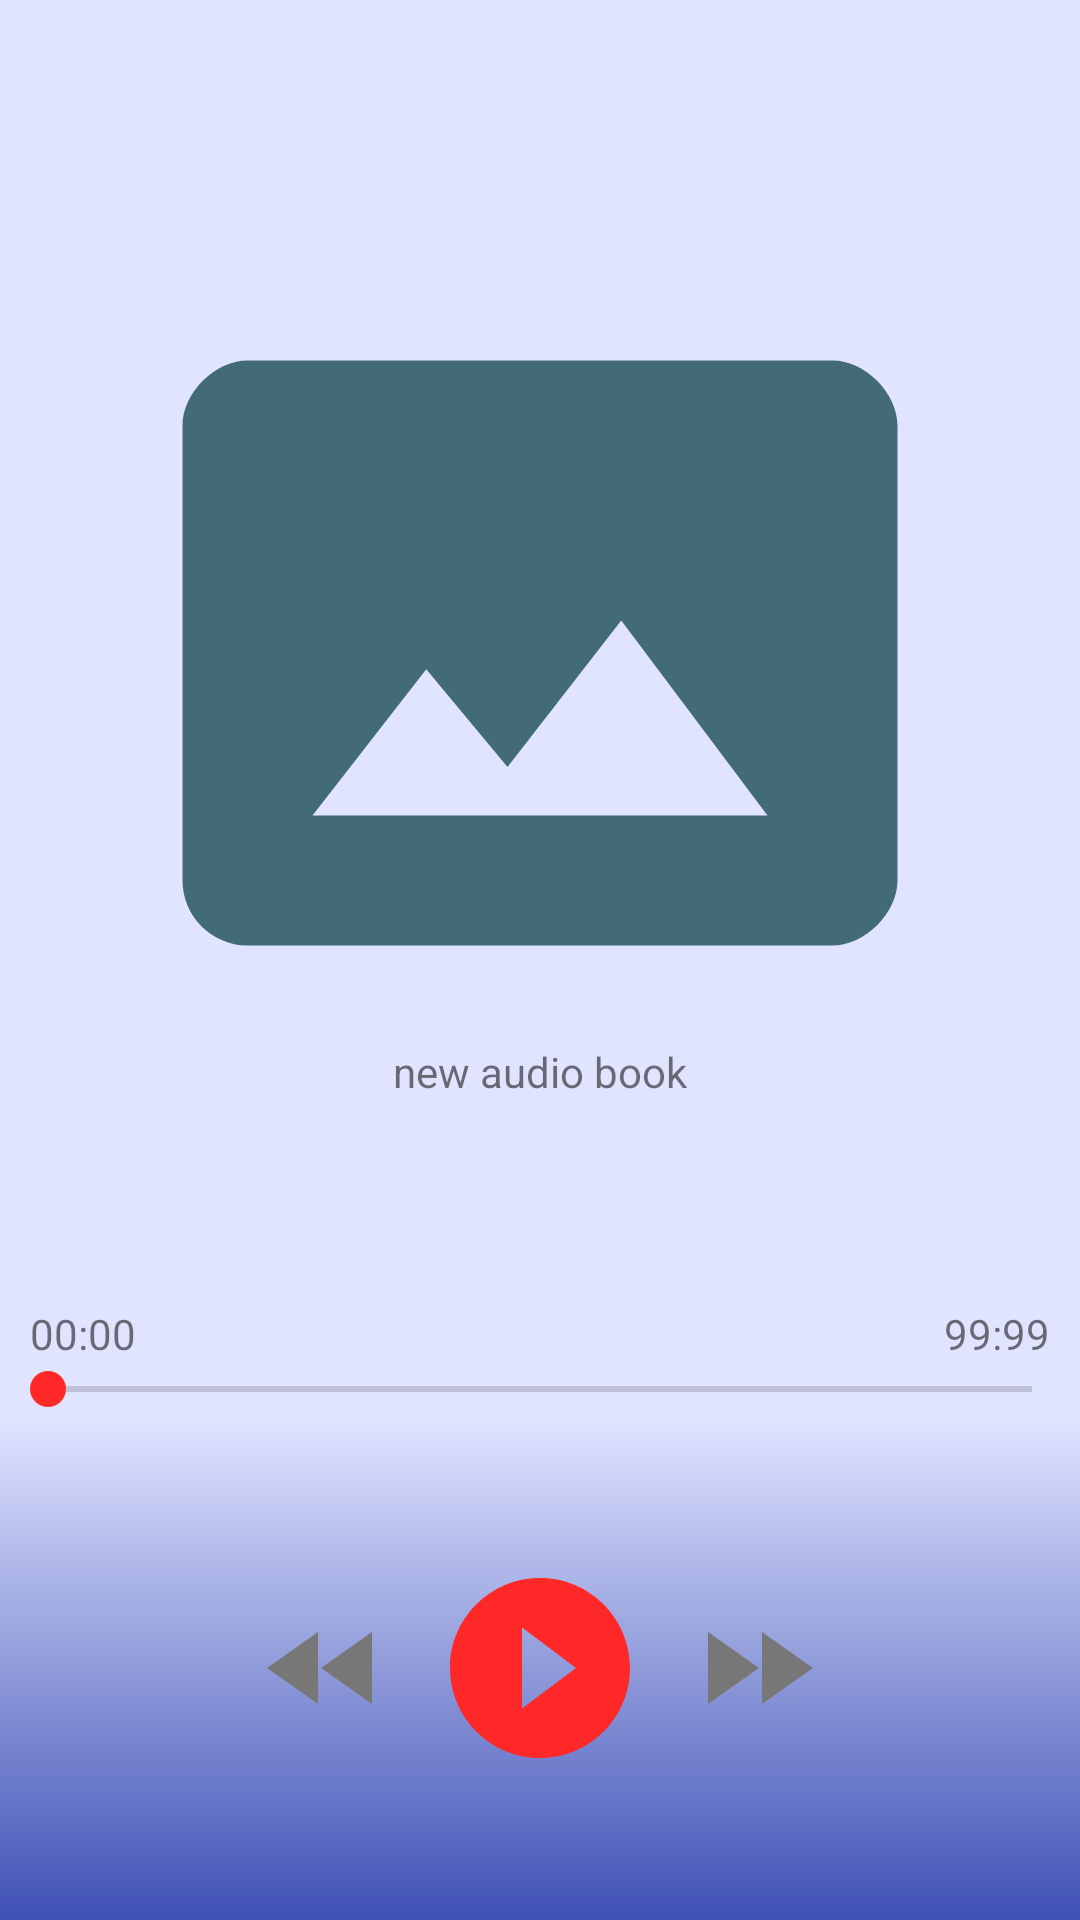

Icon click points for this 1080px×1920px phone screenshot, format [x,y]:
play circle: [540,1668]
